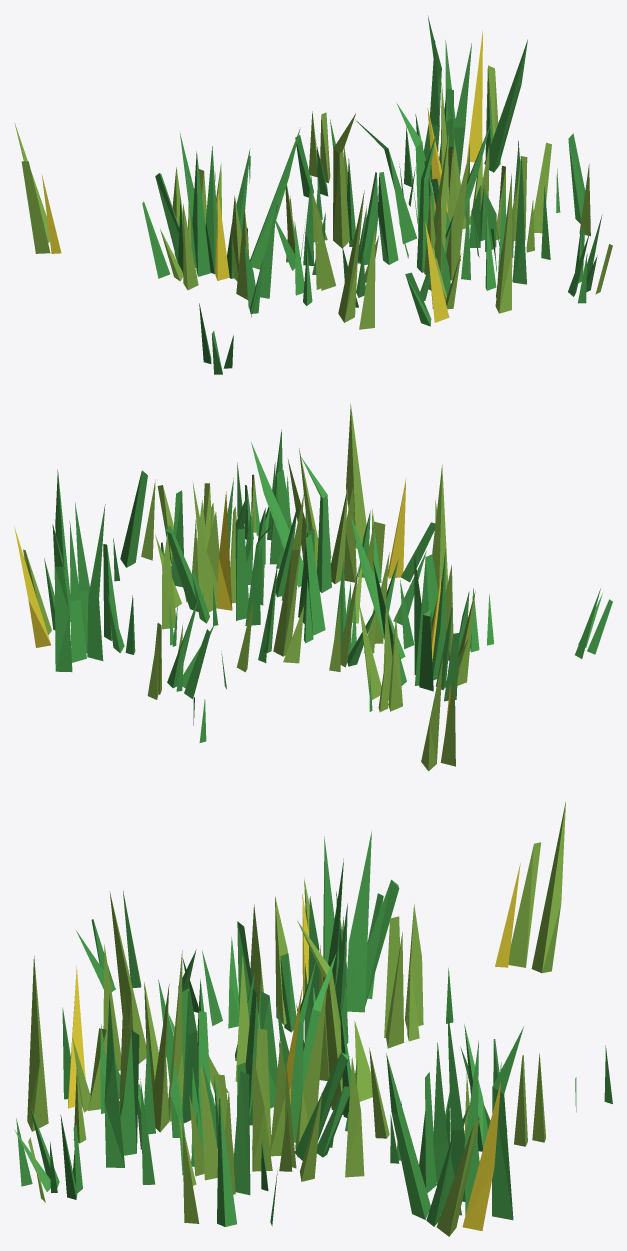
The model's file is grass-yellow.glb.
The picture shows the model from 3 angles, top to bottom: view 1: azimuth 30°, elevation 25°; view 2: azimuth 150°, elevation 25°; view 3: azimuth 270°, elevation 25°; orthographic projection. The views are drawn at different scales.
Parts seen in each view (by area): view 1: group1325005311, group1794255474, group177561954; view 2: group1325005311, group1794255474, group177561954; view 3: group1325005311, group1794255474, group177561954.
Boxes of the visible parts, box(x1,y1,x2,y2) form: group1325005311: box(142, 15, 602, 374); group1794255474: box(14, 65, 612, 329); group177561954: box(42, 30, 482, 322); group1325005311: box(44, 429, 612, 742); group1794255474: box(23, 404, 475, 771); group177561954: box(14, 478, 450, 730); group1325005311: box(14, 830, 612, 1226); group1794255474: box(27, 801, 565, 1236); group177561954: box(68, 863, 520, 1230).
Bounding box in the file's own units: 0.8592 × 0.2926 × 0.7626.
